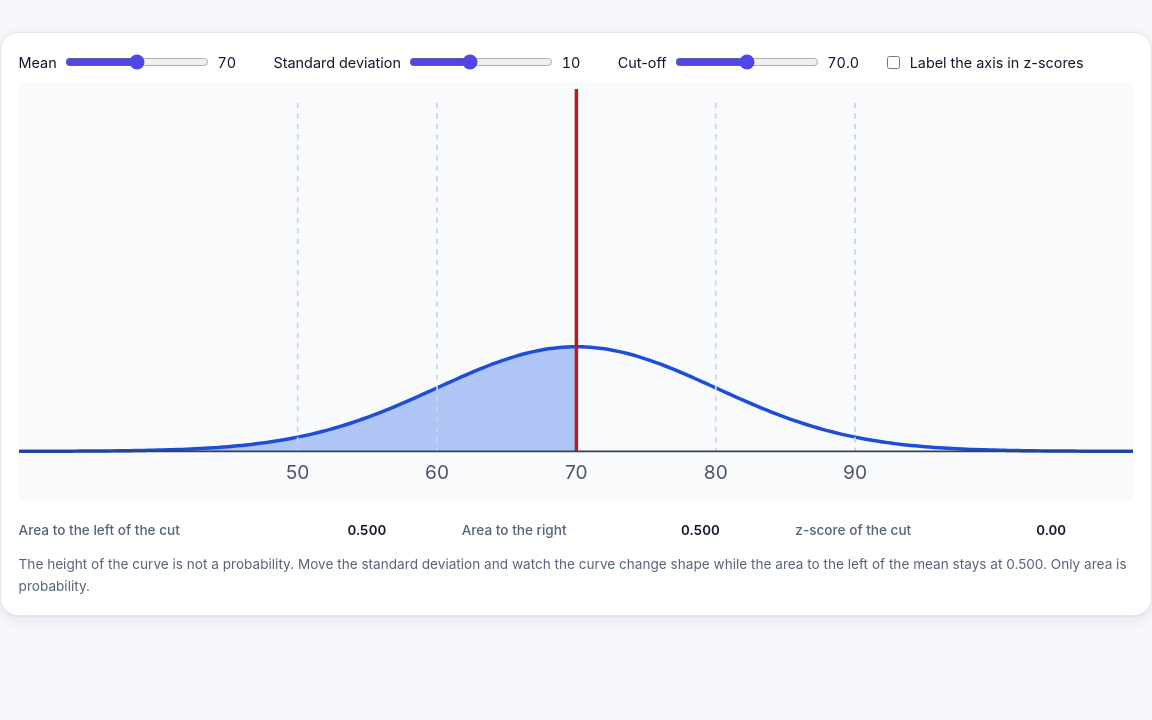
Test: Distribution › a narrower SD pulls the cut back inside the slider range
Set the slider labelled "Cut-off 70.0" to "100" at (795, 62), box [675,54,819,70]
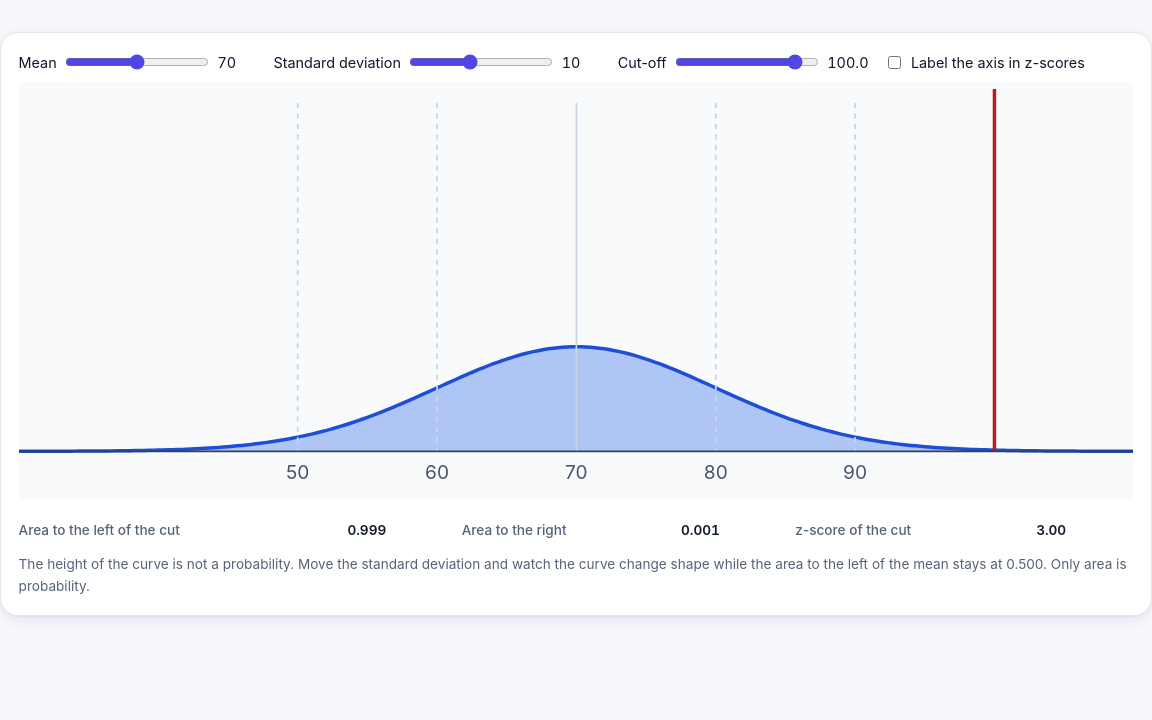
Set the slider labelled "Standard deviation 10" to "3" at (417, 62), box [409,54,553,70]
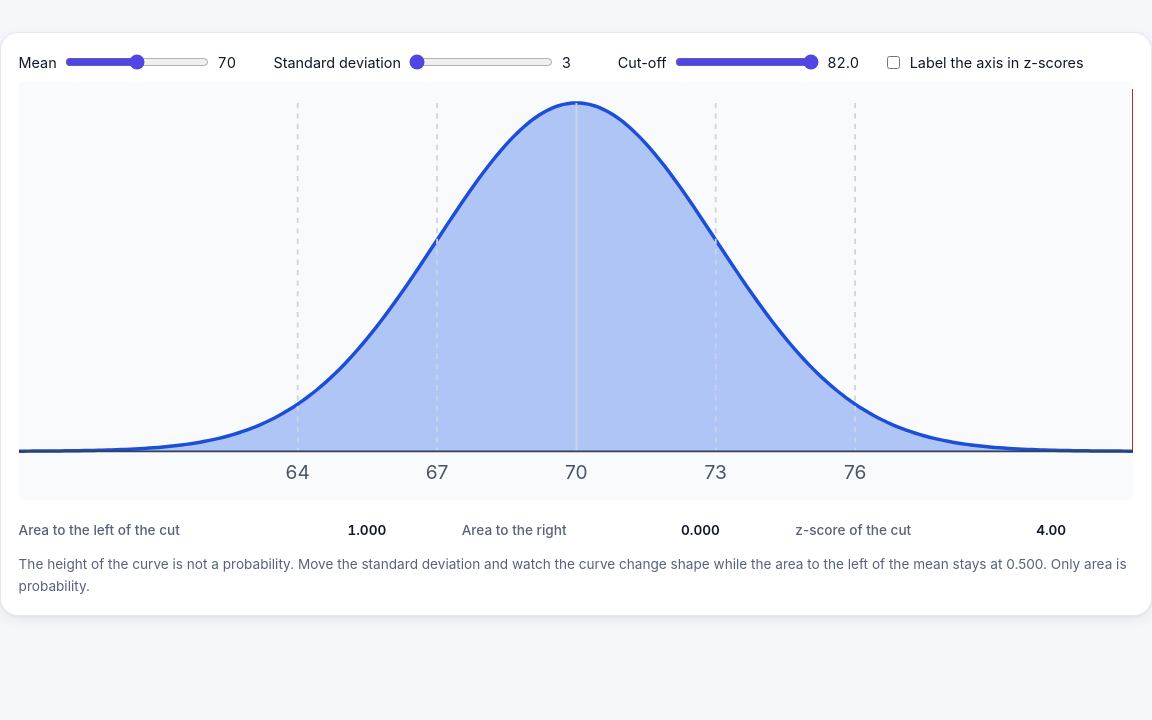
Result: the slider labelled "Cut-off 82.0" holds "82" at [675,54,819,70]
Result: the cell with test id "z-score" reads "4.00" at [1036,522,1066,538]
